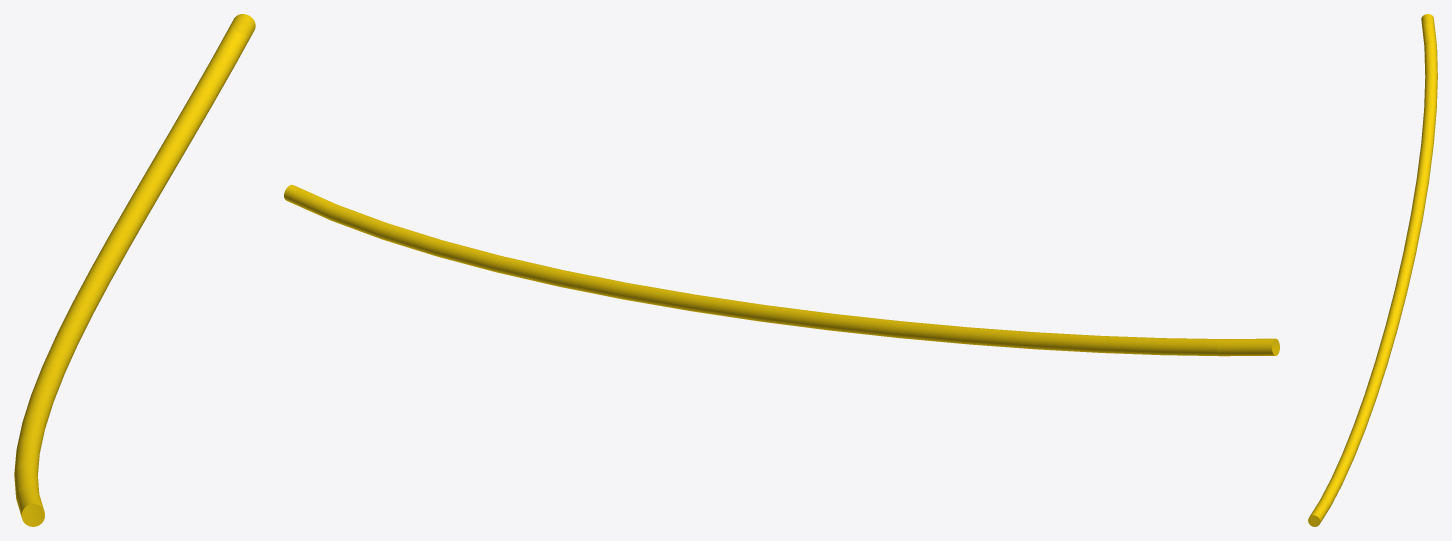
The model's file is Event_420107950_track_62.fbx.
3 views of the same model, side by side, from view 1: azimuth 90°, elevation 25°; view 2: azimuth 150°, elevation 25°; view 3: azimuth 270°, elevation 25° (orthographic). The views are drawn at different scales.
Parts seen in each view (by area): view 1: Model; view 2: Model; view 3: Model.
Boxes of the visible parts, <box> form: Model: <box>14,14,255,526</box>; Model: <box>284,185,1279,356</box>; Model: <box>1308,14,1437,526</box>.
Size of the model in its own units: 2.86 by 0.457 by 0.4085.
